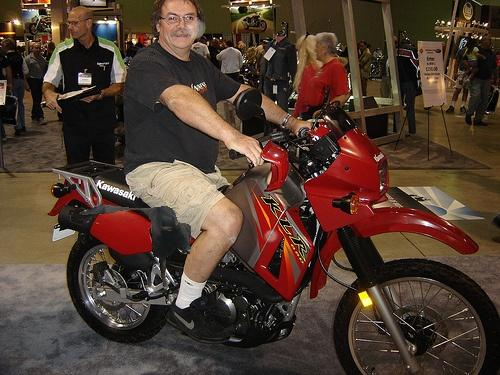tampered: (80, 205, 191, 290)
